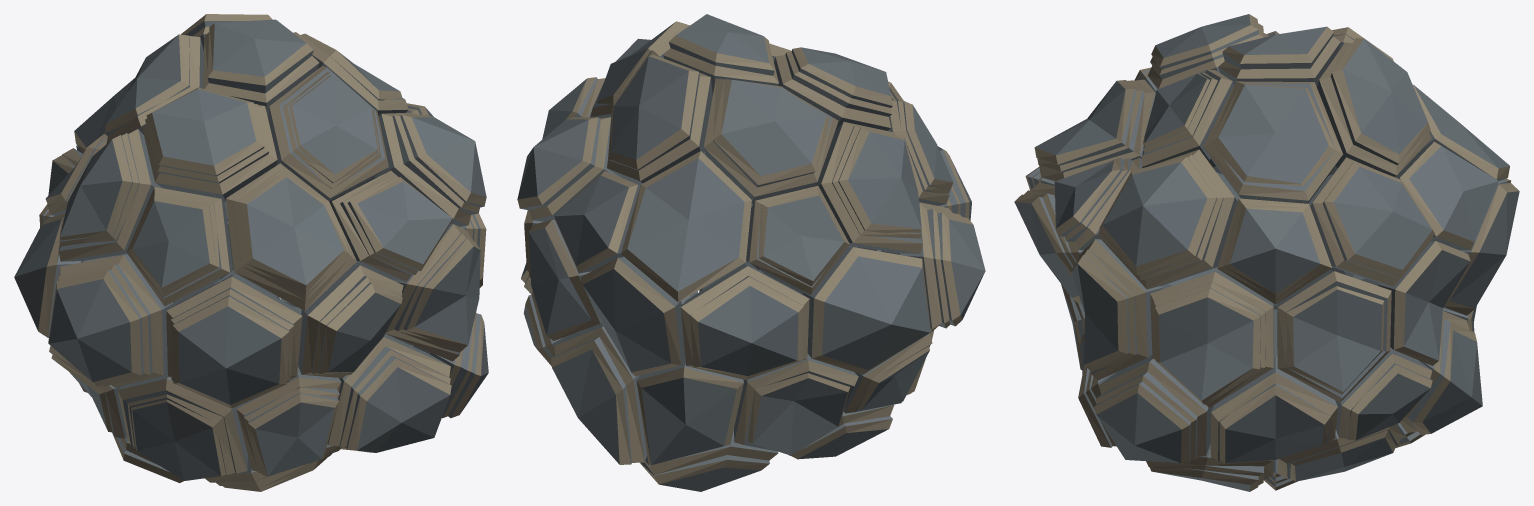
The model's file is decoy.glb.
3 views of the same model, side by side, from view 1: azimuth 30°, elevation 25°; view 2: azimuth 150°, elevation 25°; view 3: azimuth 270°, elevation 25° (orthographic). The views are drawn at different scales.
Visible parts, largest first — view 1: armour_broken_shell, armour_intact_shell, armour_cracked_shell; view 2: armour_intact_shell, armour_cracked_shell, armour_broken_shell; view 3: armour_cracked_shell, armour_intact_shell, armour_broken_shell.
Boxes of the visible parts, x1=… form: armour_broken_shell: x1=48, y1=75, x2=488, y2=491; armour_intact_shell: x1=14, y1=26, x2=473, y2=482; armour_cracked_shell: x1=39, y1=14, x2=479, y2=488; armour_intact_shell: x1=524, y1=24, x2=952, y2=474; armour_cracked_shell: x1=517, y1=14, x2=961, y2=491; armour_broken_shell: x1=616, y1=38, x2=985, y2=392; armour_cracked_shell: x1=1024, y1=23, x2=1511, y2=485; armour_intact_shell: x1=1031, y1=33, x2=1519, y2=479; armour_broken_shell: x1=1014, y1=14, x2=1297, y2=491.
Bounding box in the file's own units: 29.29 × 29.2 × 30.63.
